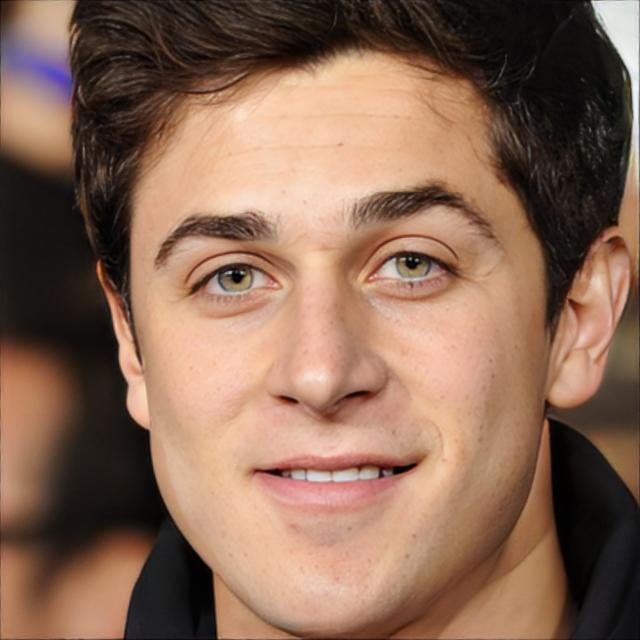content: (132, 43, 550, 636)
